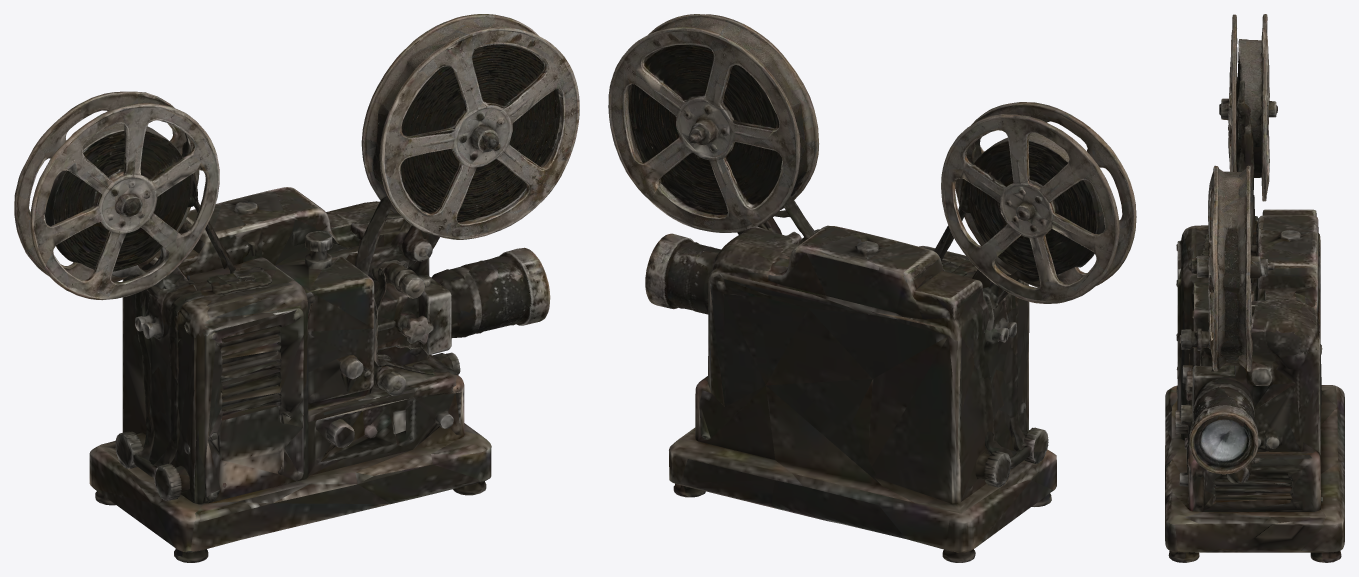
3 views of the same model, side by side, from view 1: azimuth 30°, elevation 25°; view 2: azimuth 150°, elevation 25°; view 3: azimuth 270°, elevation 25° (orthographic). The views are drawn at different scales.
Parts seen in each view (by area): view 1: Mesh_0; view 2: Mesh_0; view 3: Mesh_0.
Boxes of the visible parts, <box> form: Mesh_0: <box>14,14,579,562</box>; Mesh_0: <box>608,14,1136,562</box>; Mesh_0: <box>1165,14,1344,562</box>.
Bounding box in the file's own units: 1.9 × 1.48 × 0.6125.
1 material, 1 textured.
